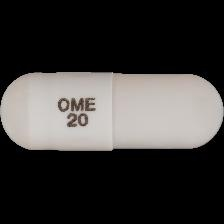0615-1359: (0, 0, 224, 224)
